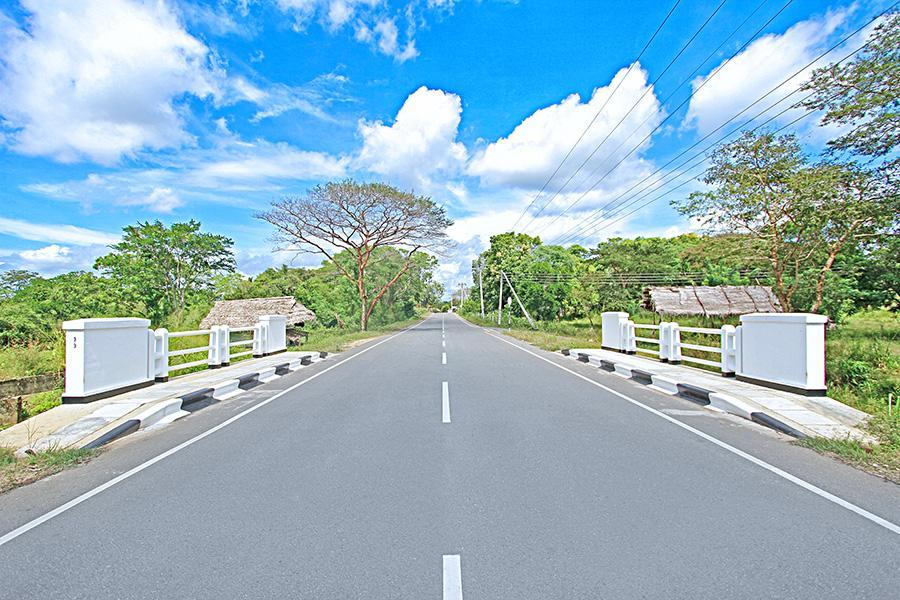cloud: (3, 0, 199, 159), (353, 83, 475, 181), (2, 213, 104, 261)
palisade: (569, 307, 843, 438), (60, 312, 327, 443)
